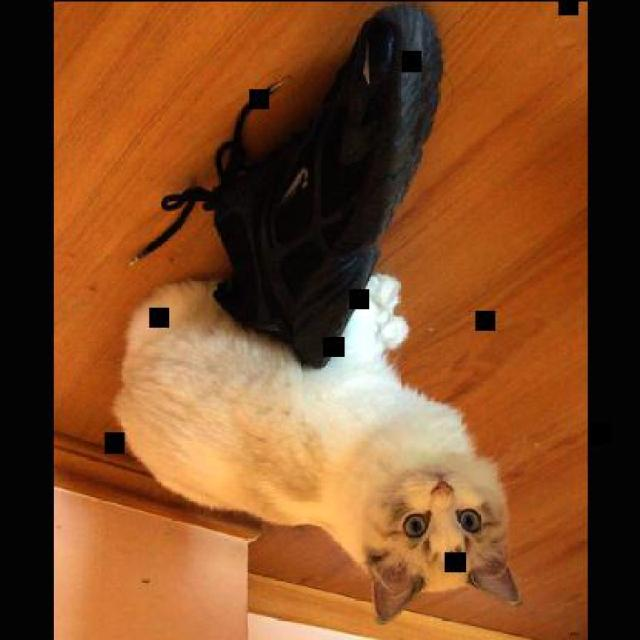unauthorized: (109, 269, 523, 623)
